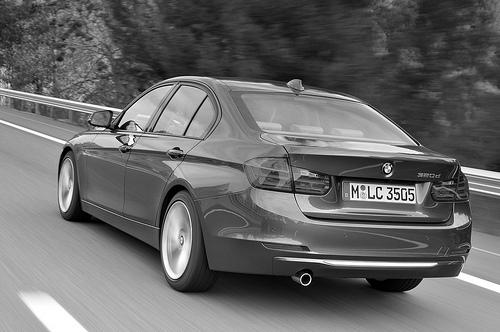car: (56, 74, 476, 295)
